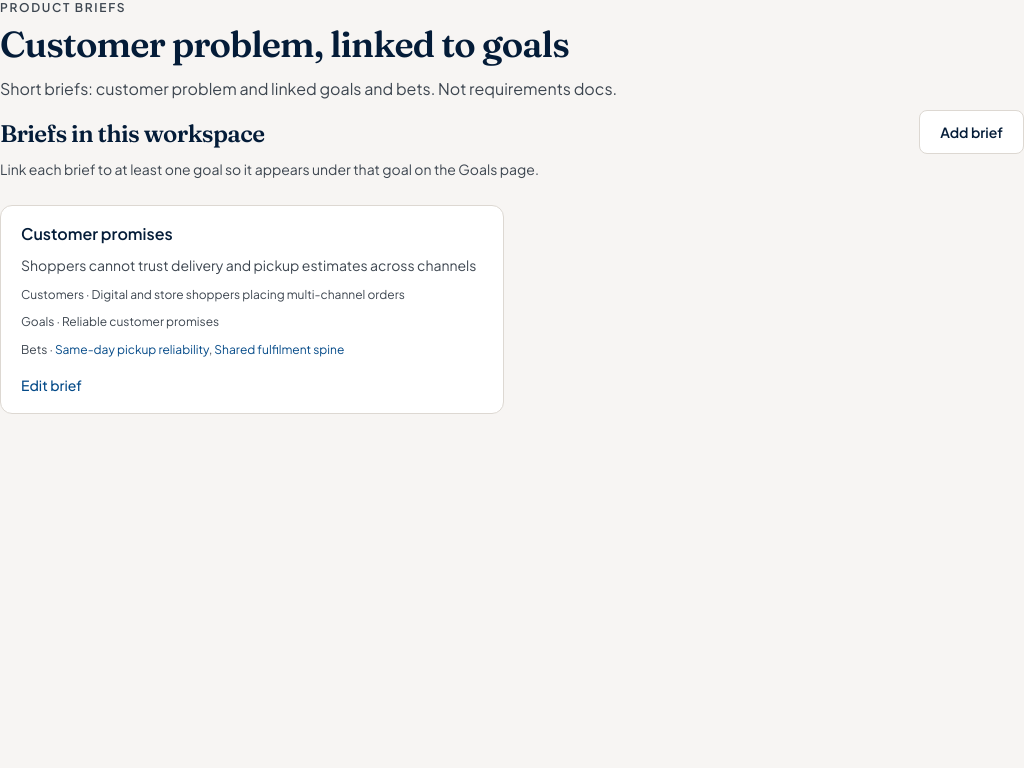
Test: ProductsPage › lists product briefs and saves a new brief linked to goals and bets
Expected: the element with test id "products-page" is shown, top-left (0, 0), bottom-right (1023, 414)
Expected: the heading "Customer promises" is shown, top-left (21, 223), bottom-right (173, 244)
Click the button "Add brief": {"x": 972, "y": 132} top-left (919, 110), bottom-right (1023, 154)
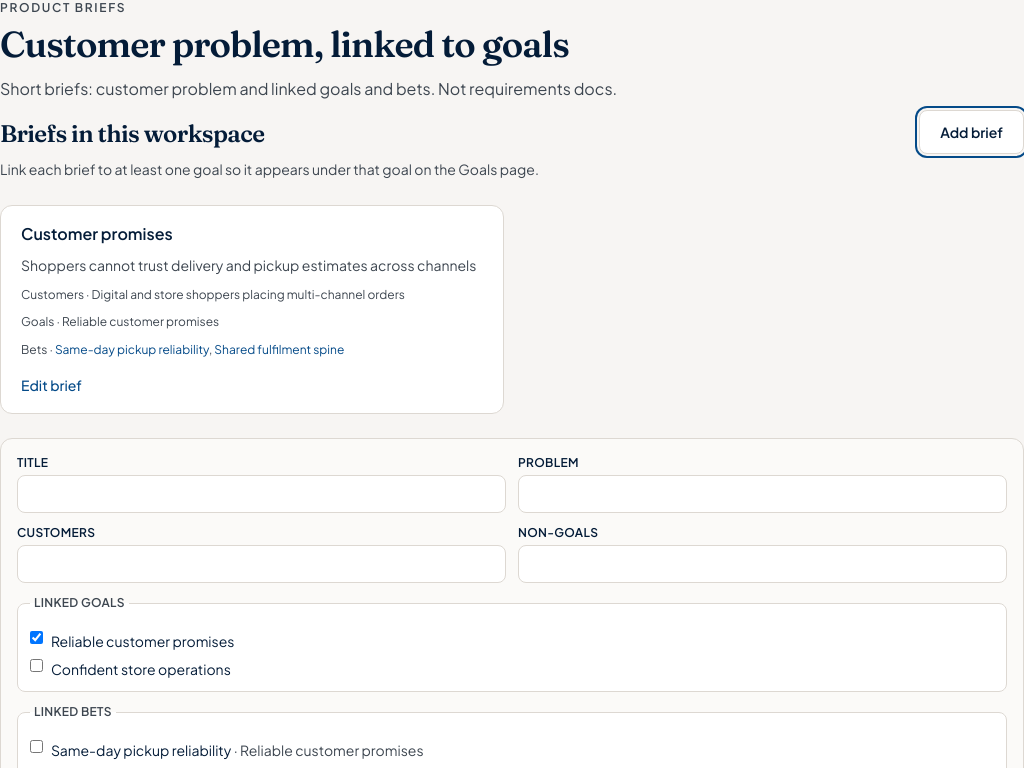
In the field labelled "Title": {"x": 262, "y": 494} top-left (17, 475), bottom-right (506, 513), type "Checkout continuity"
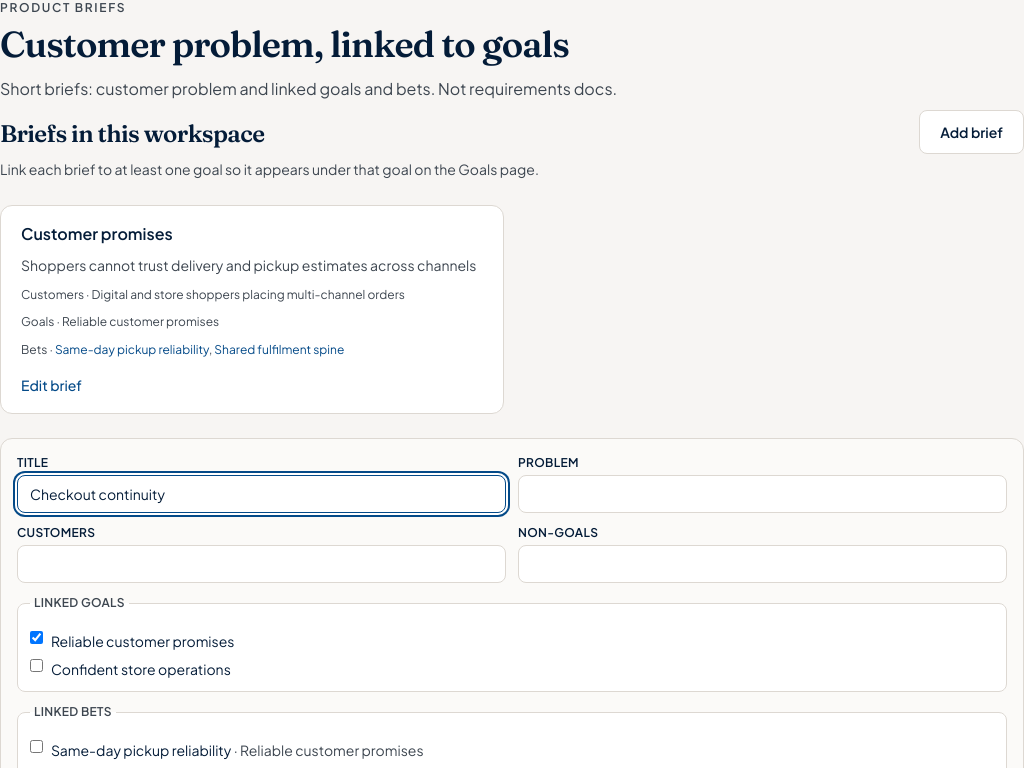
In the field labelled "Problem": {"x": 762, "y": 494} top-left (518, 475), bottom-right (1007, 513), type "Shoppers abandon when promises slip"
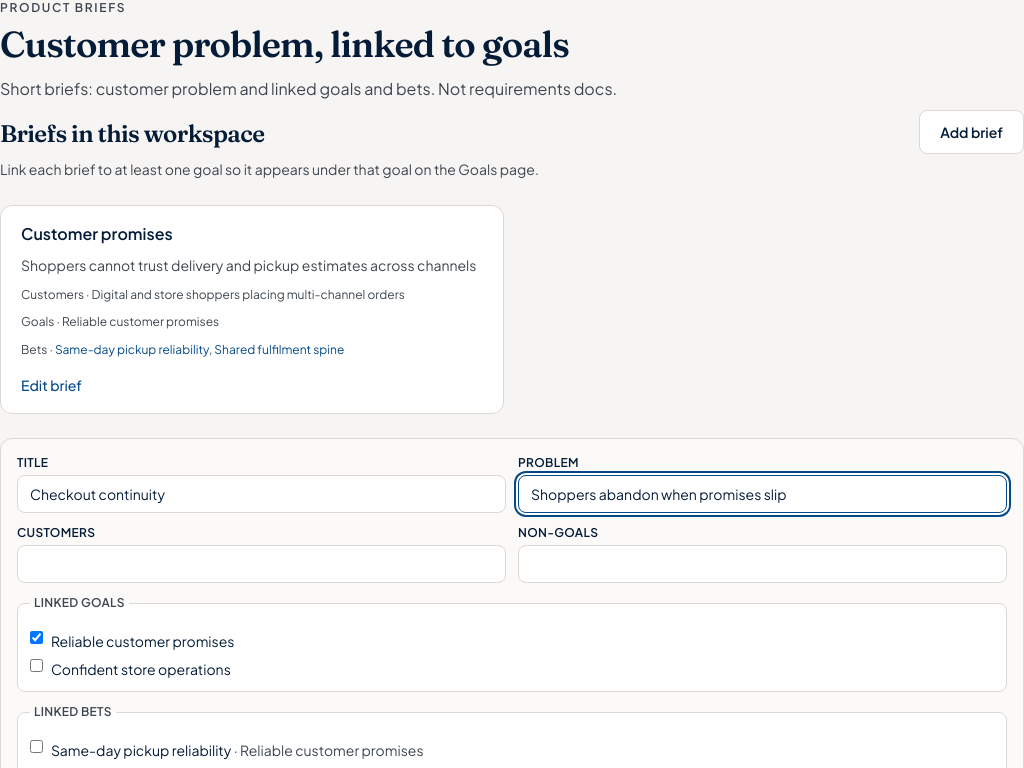
Now the checkbox labelled "Reliable customer promises" is checked, box top-left (30, 631), bottom-right (43, 644)
Click the checkbox labelled "Same-day pickup reliability · Reliable customer promises": {"x": 36, "y": 746} top-left (30, 740), bottom-right (43, 753)
(page scrolled)
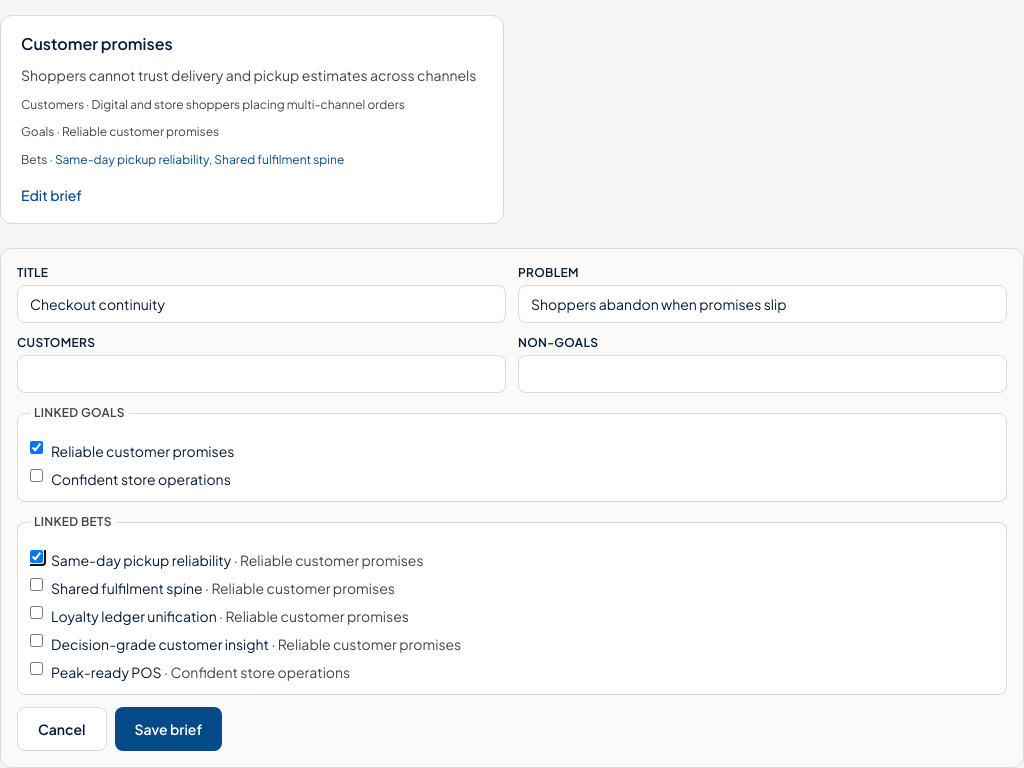
Click the button "Save brief": {"x": 168, "y": 729} top-left (114, 707), bottom-right (222, 751)
(page scrolled)
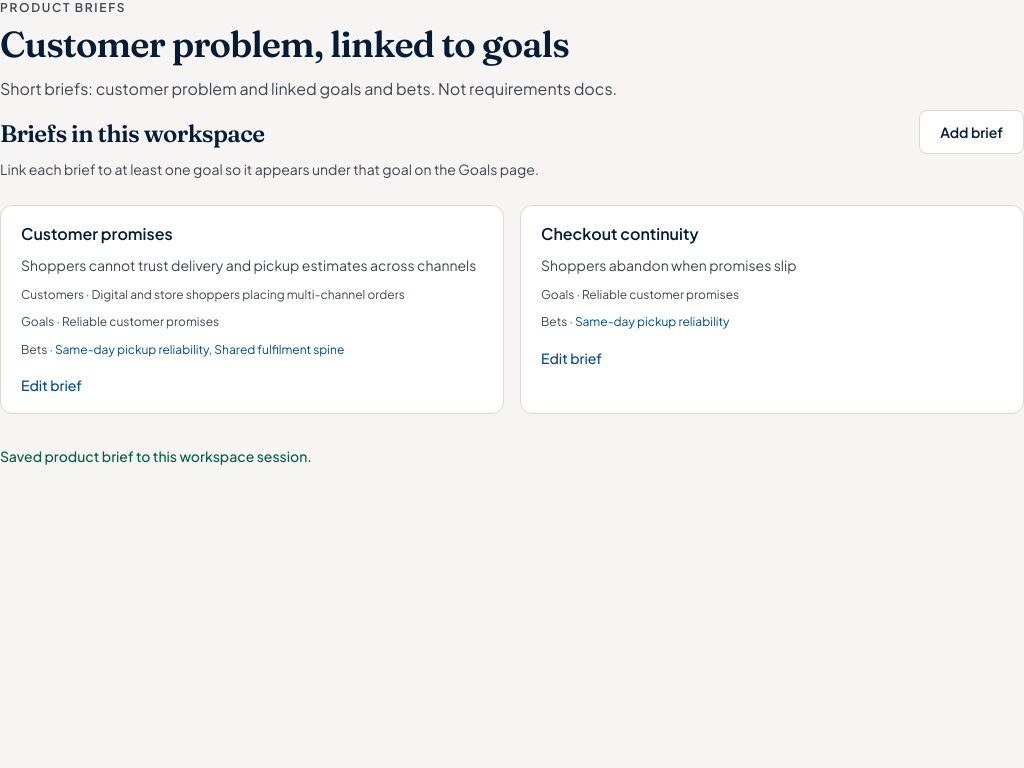
Now the text "Saved product brief to this workspace session." is shown, box top-left (0, 447), bottom-right (312, 465)
Now the heading "Checkout continuity" is shown, box top-left (541, 223), bottom-right (698, 244)
